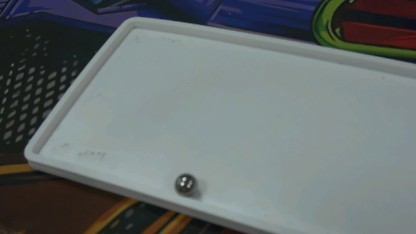ironball: (173, 167, 196, 194)
